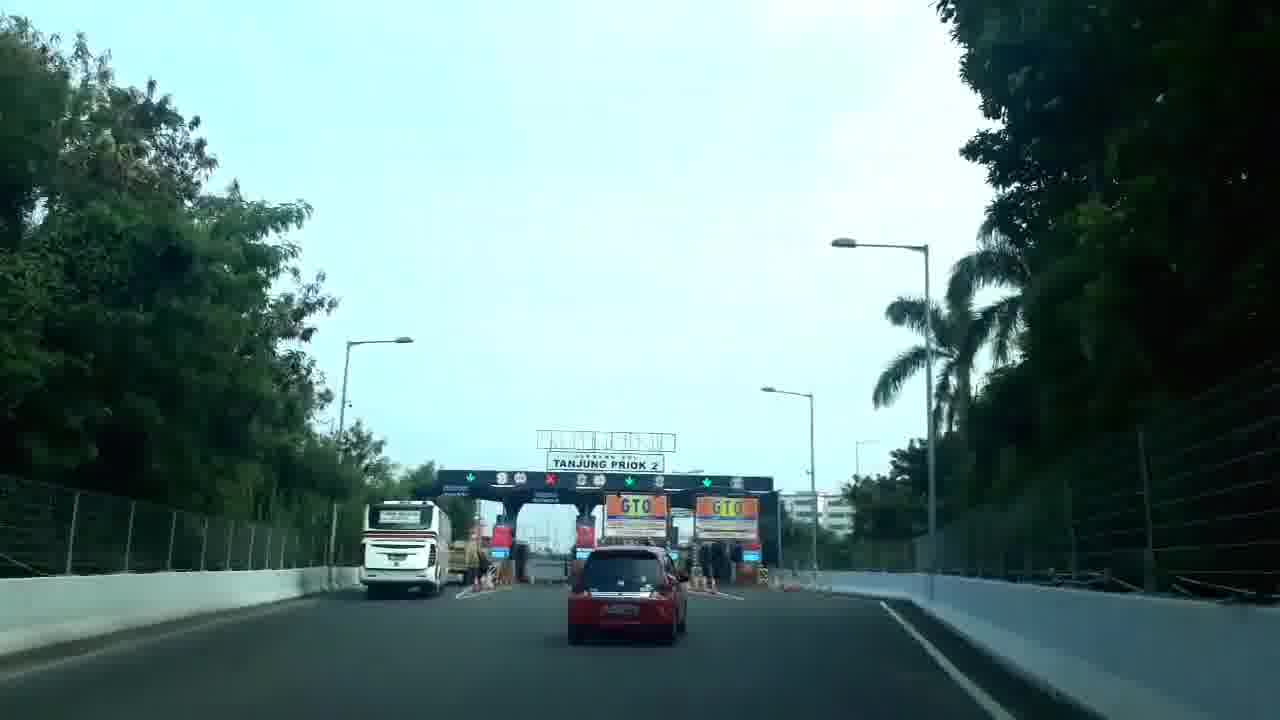plate_positive: (605, 606, 639, 618)
